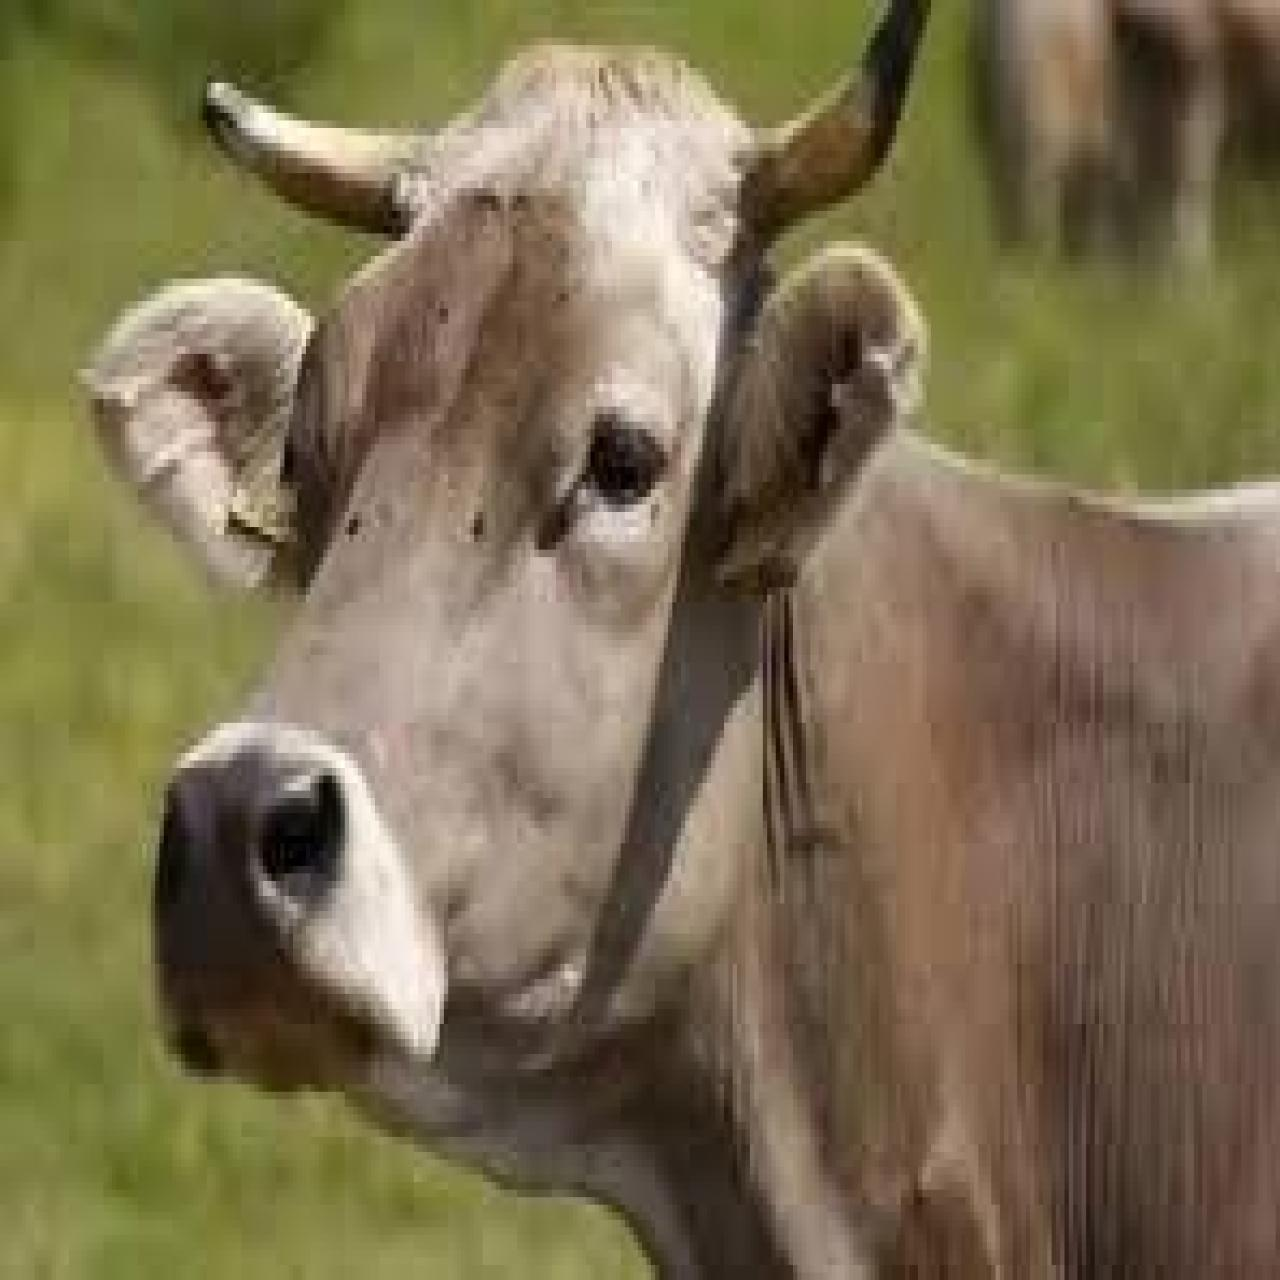cow: (73, 0, 1279, 1272), (961, 0, 1280, 279)
